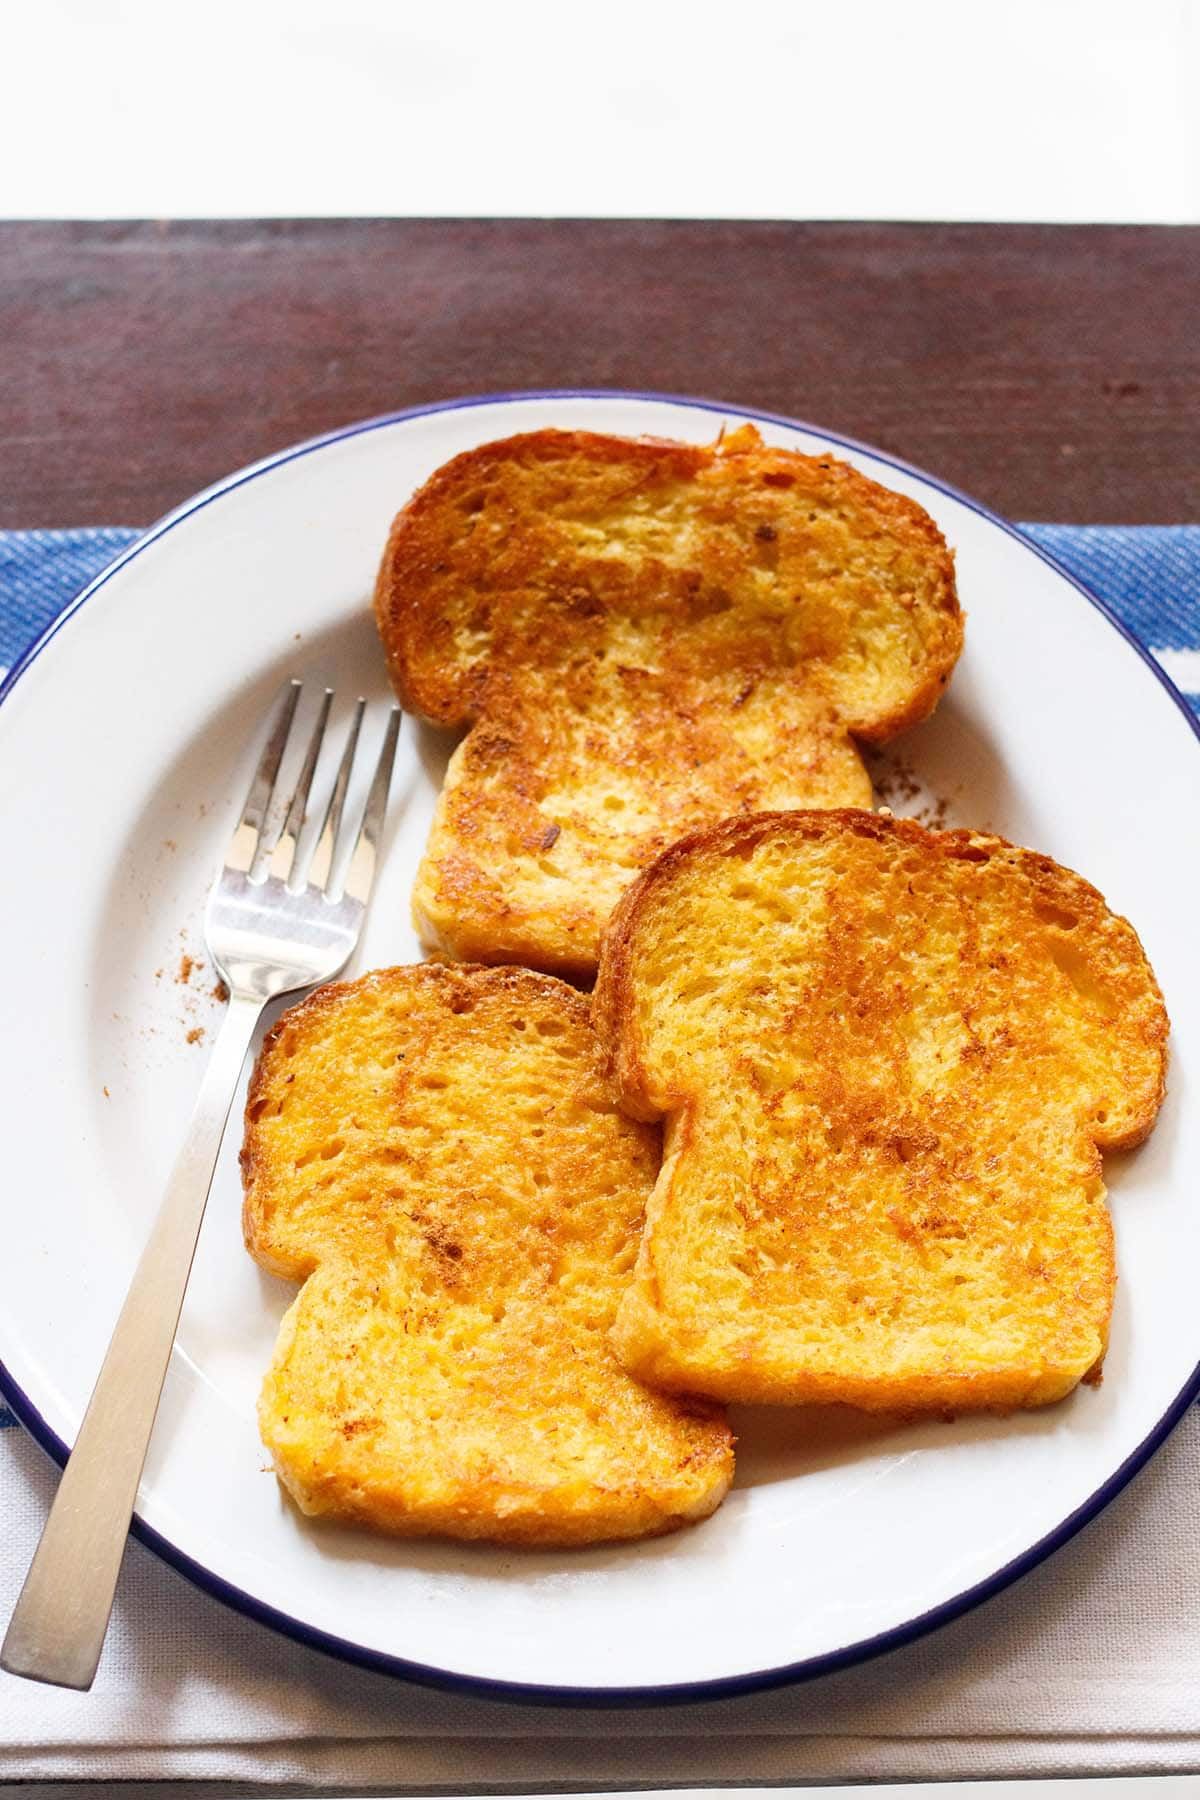Toast: (603, 793, 1160, 1416), (386, 412, 963, 924), (252, 954, 743, 1537)
